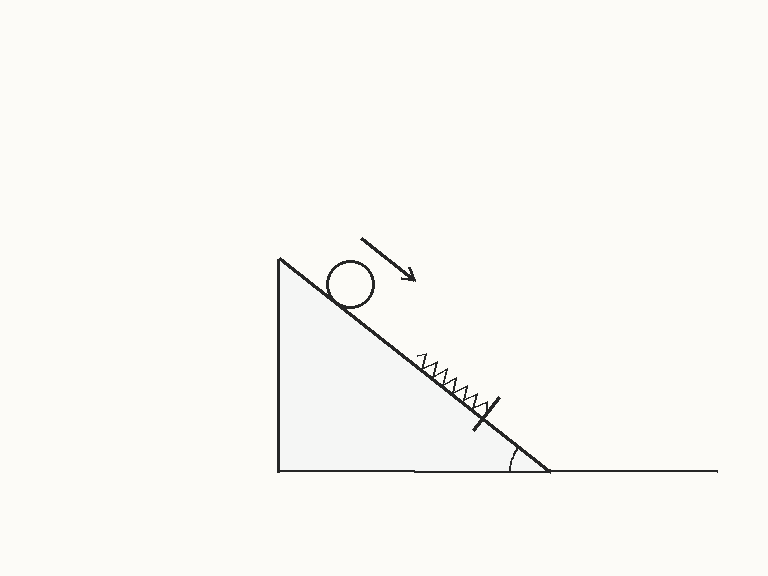ball: (324, 258, 376, 310)
ramp: (276, 257, 552, 473)
spring: (415, 352, 490, 413)
